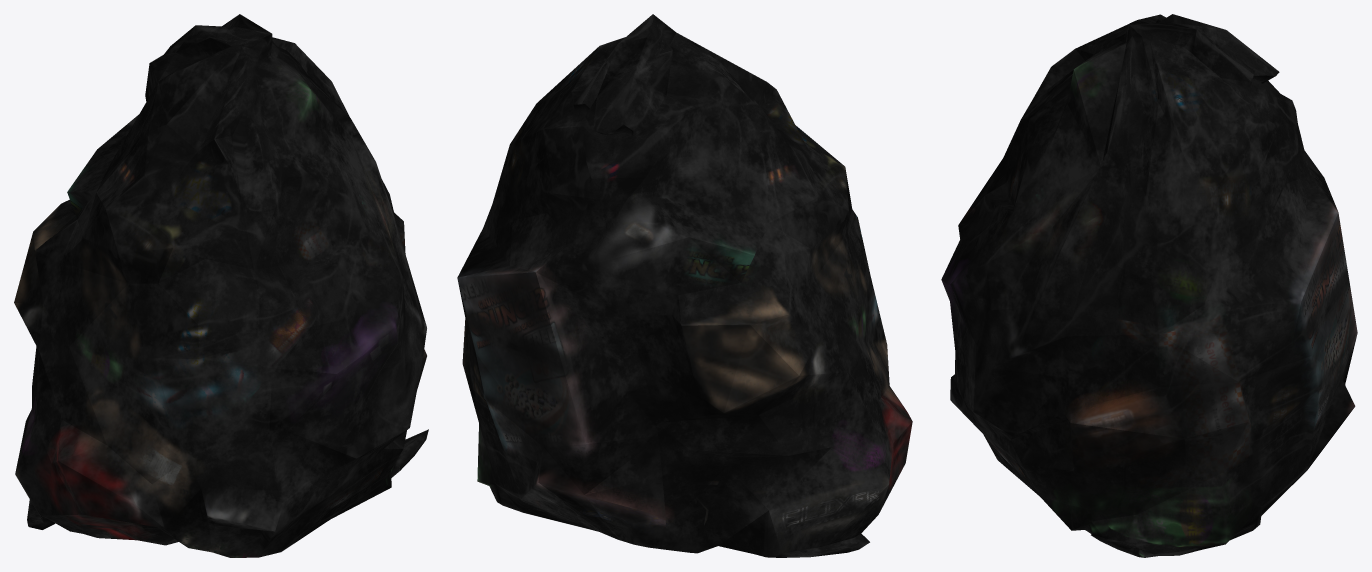
File: lajidai.fbx
The picture shows the model from 3 angles, left to right: view 1: azimuth 30°, elevation 25°; view 2: azimuth 150°, elevation 25°; view 3: azimuth 270°, elevation 25°; orthographic projection. The views are drawn at different scales.
Parts seen in each view (by area): view 1: trashbag; view 2: trashbag; view 3: trashbag.
Part boxes in pixels (left/top/right/bottom): trashbag: left=14, top=14, right=428, bottom=557; trashbag: left=457, top=14, right=912, bottom=557; trashbag: left=941, top=14, right=1357, bottom=557.
Size of the model in its own units: 52.81 by 56.84 by 46.29.
